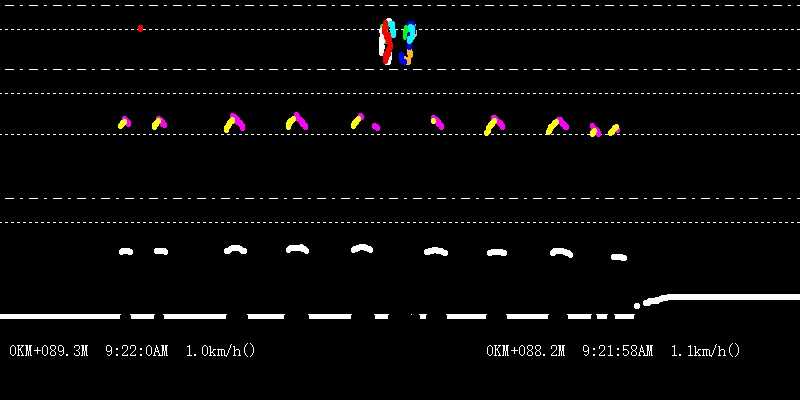J: (378, 3, 418, 66)
face_1: (134, 21, 144, 37)
y_p: (208, 105, 577, 264)
